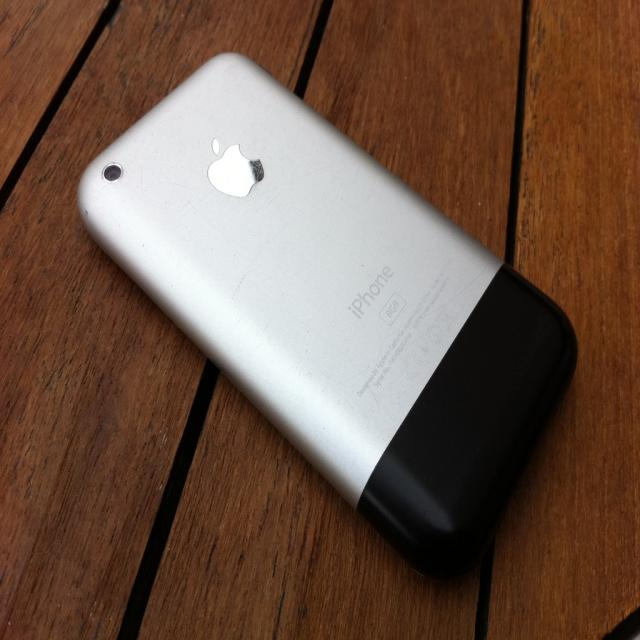Mobile-phone: (87, 48, 578, 576)
